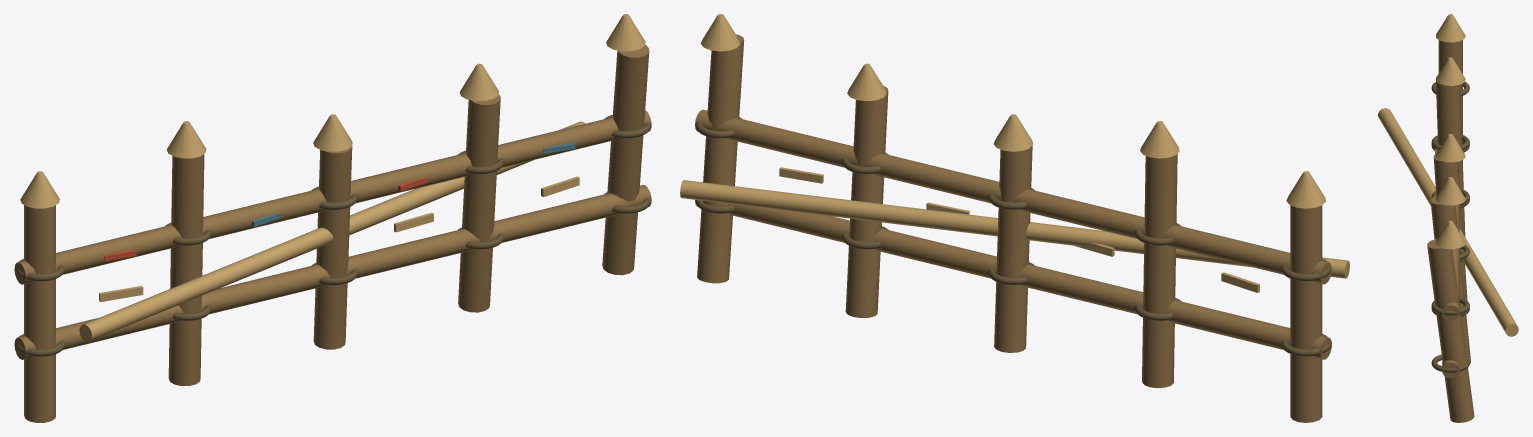
Rendered from fence.glb.
3 renders of one model, left to right at view 1: azimuth 30°, elevation 25°; view 2: azimuth 150°, elevation 25°; view 3: azimuth 270°, elevation 25°, orthographic. The views are drawn at different scales.
Visible parts, largest first — view 1: fence; view 2: fence; view 3: fence.
Part boxes in pixels (left/top/right/bottom): fence: left=14, top=14, right=651, bottom=422; fence: left=680, top=14, right=1349, bottom=422; fence: left=1378, top=14, right=1518, bottom=422.
Bounding box in the file's own units: 4.73 × 1.86 × 1.2.
